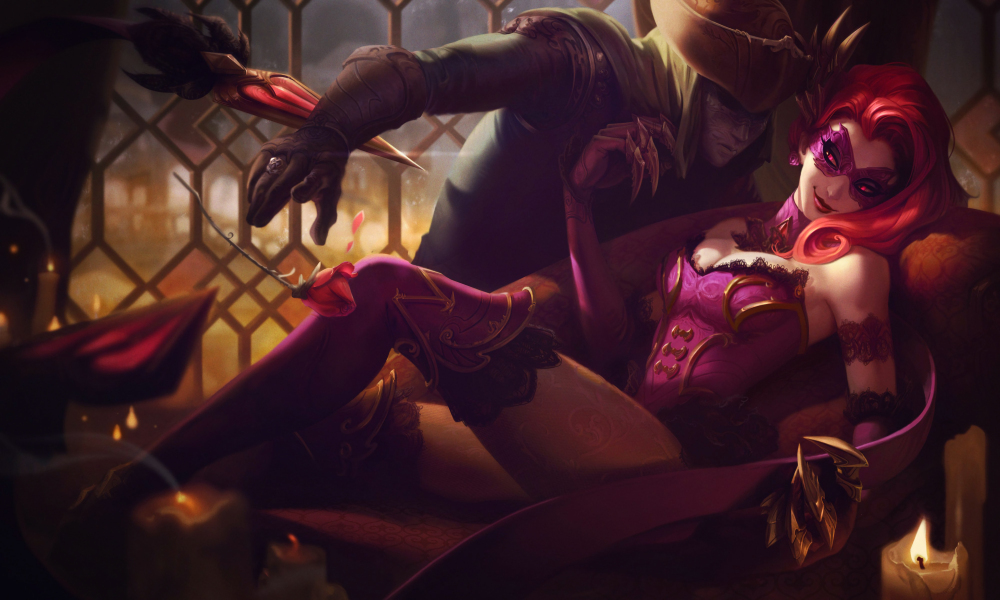face: (760, 47, 976, 260), (649, 2, 872, 187)
